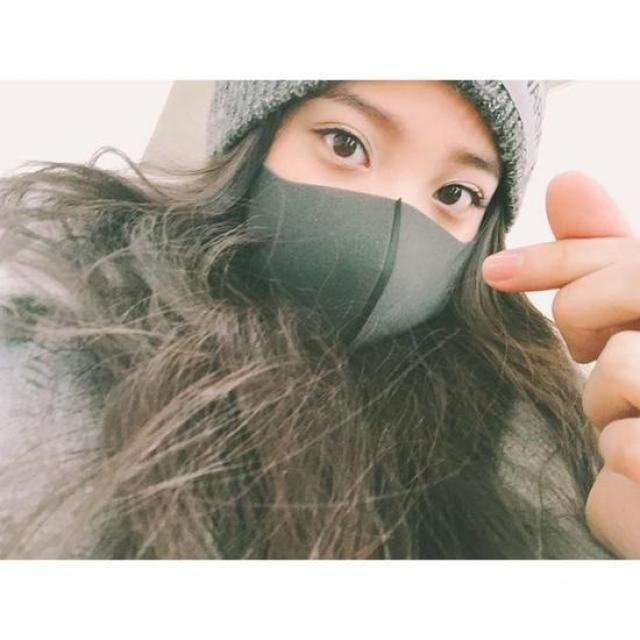mask: (241, 71, 501, 360)
